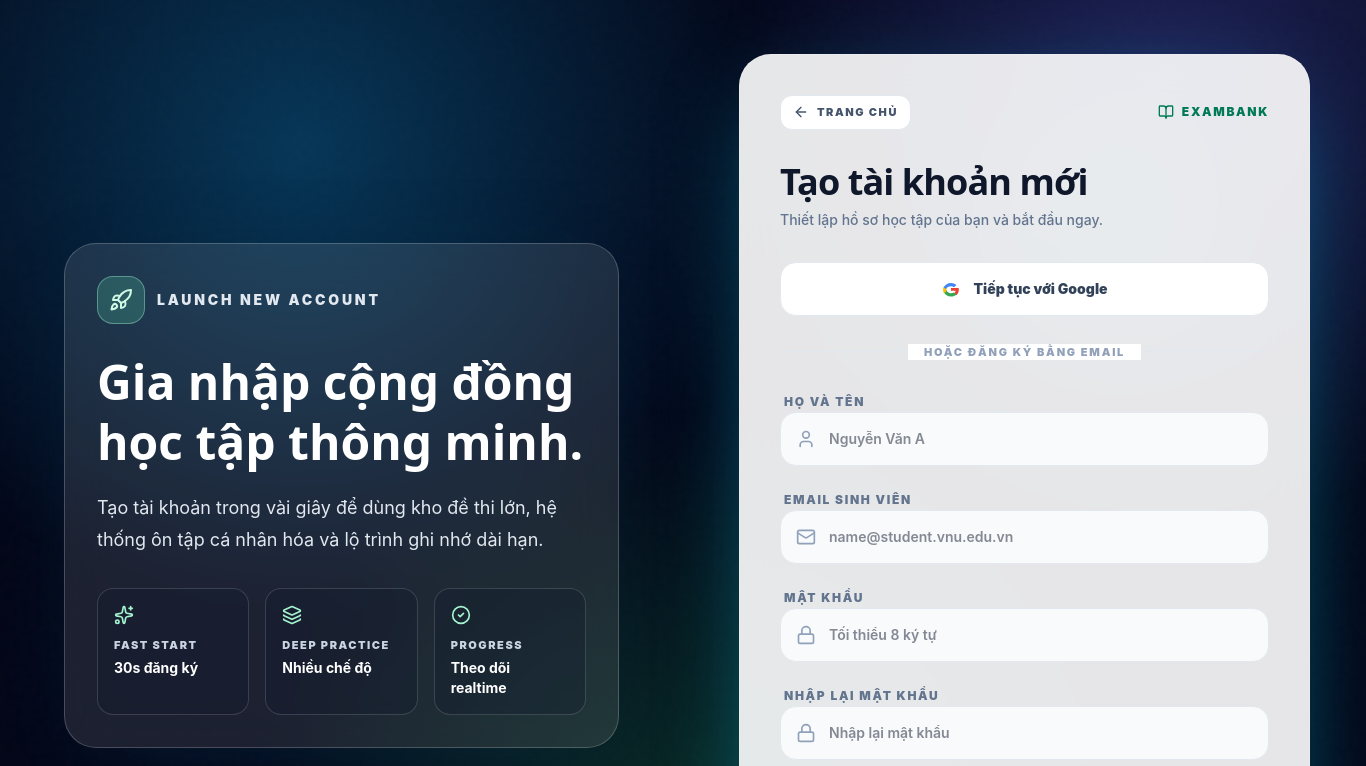
it: Register page › validates password confirmation match
Type "Nguyen Van A" into the field labelled "Họ và tên". click: (1024, 439)
box: [780,412,1269,466]
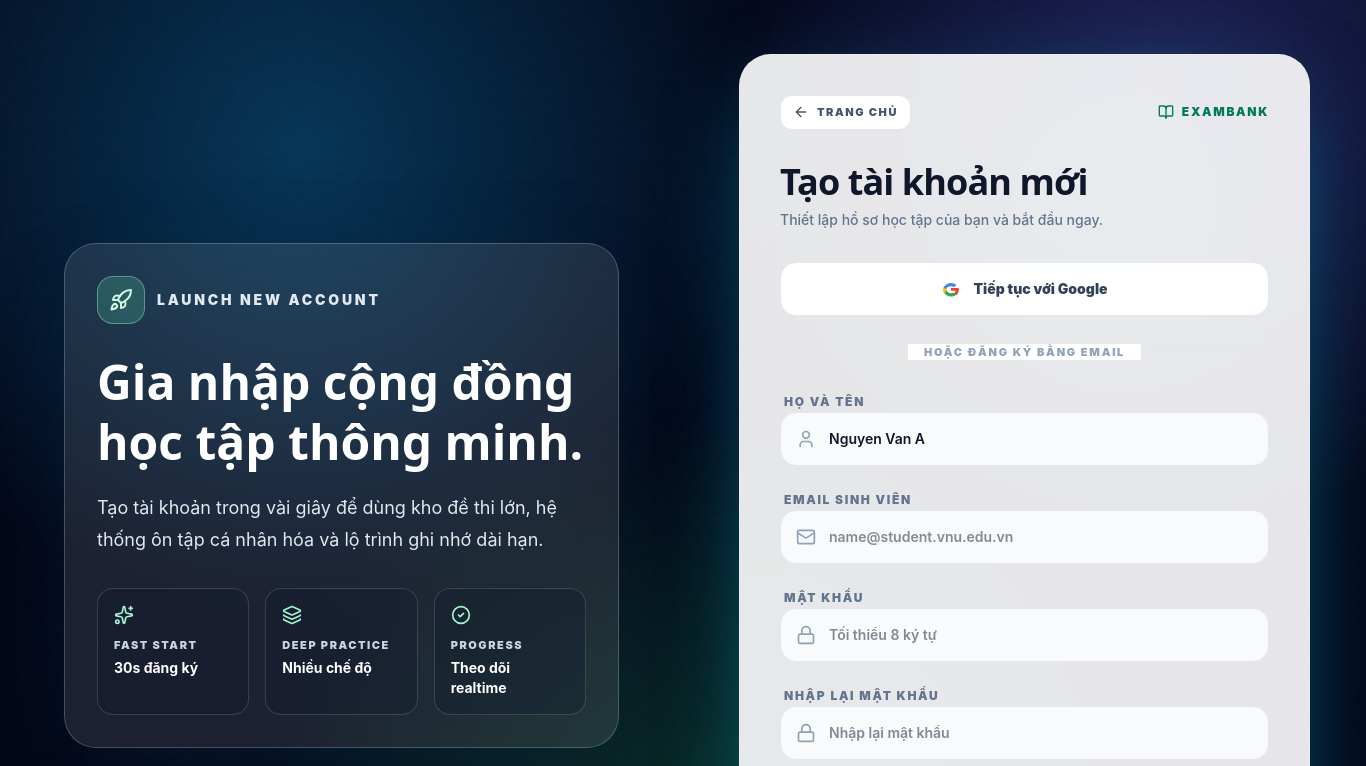
Type "a@student.edu.vn" into the field labelled "Email sinh viên". click: (1024, 537)
box: [780,510,1269,564]
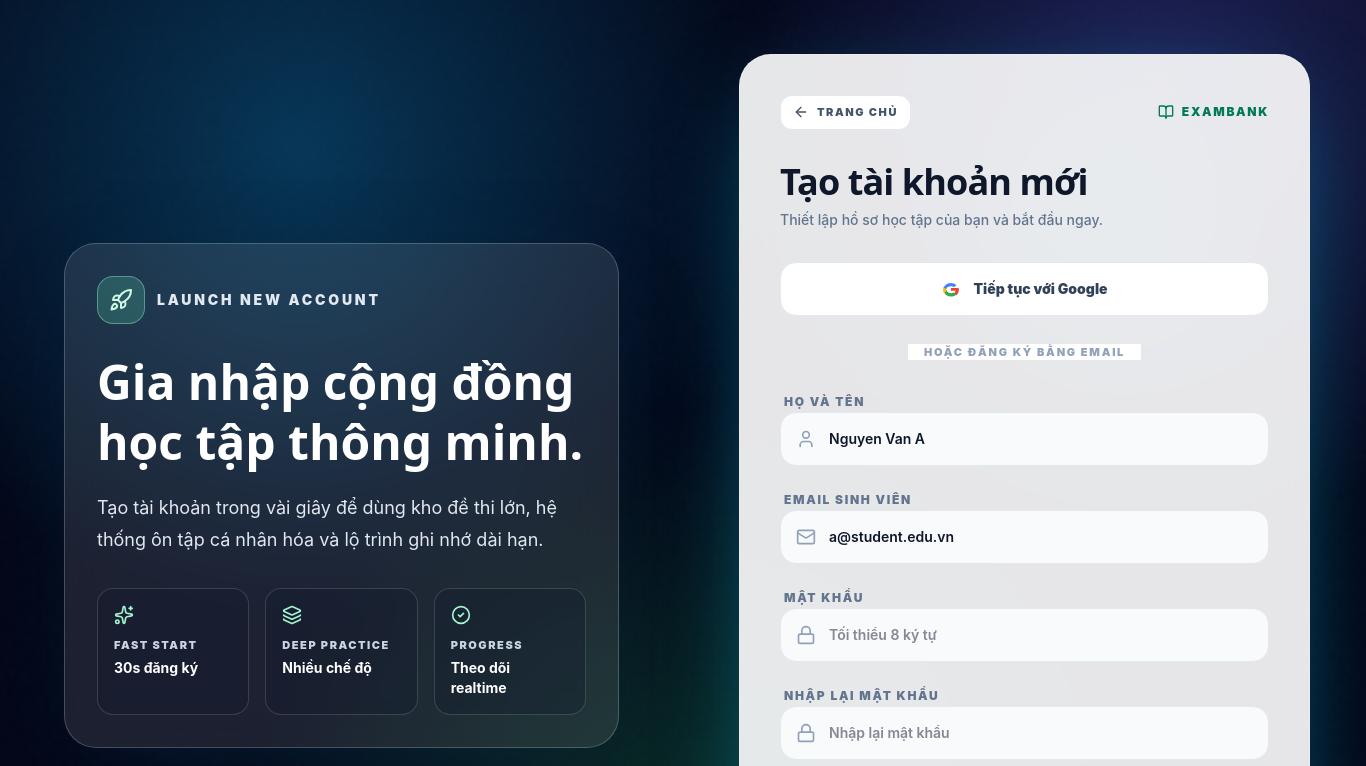
Type "Password123" into the password field labelled "Mật khẩu". click: (1024, 635)
box: [780,608,1269,662]
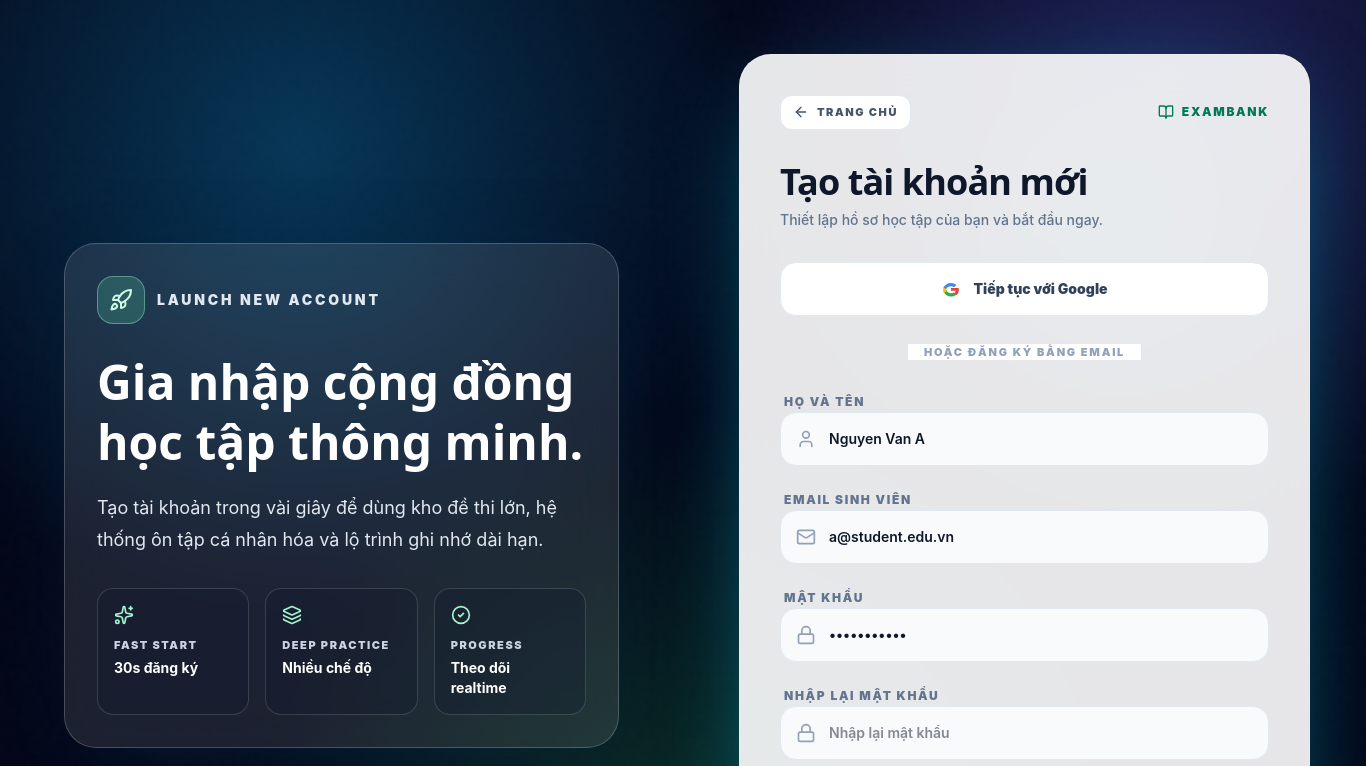
Type "DifferentPass" into the password field labelled "Nhập lại mật khẩu". click: (1024, 733)
box: [780,706,1269,760]
(page scrolled)
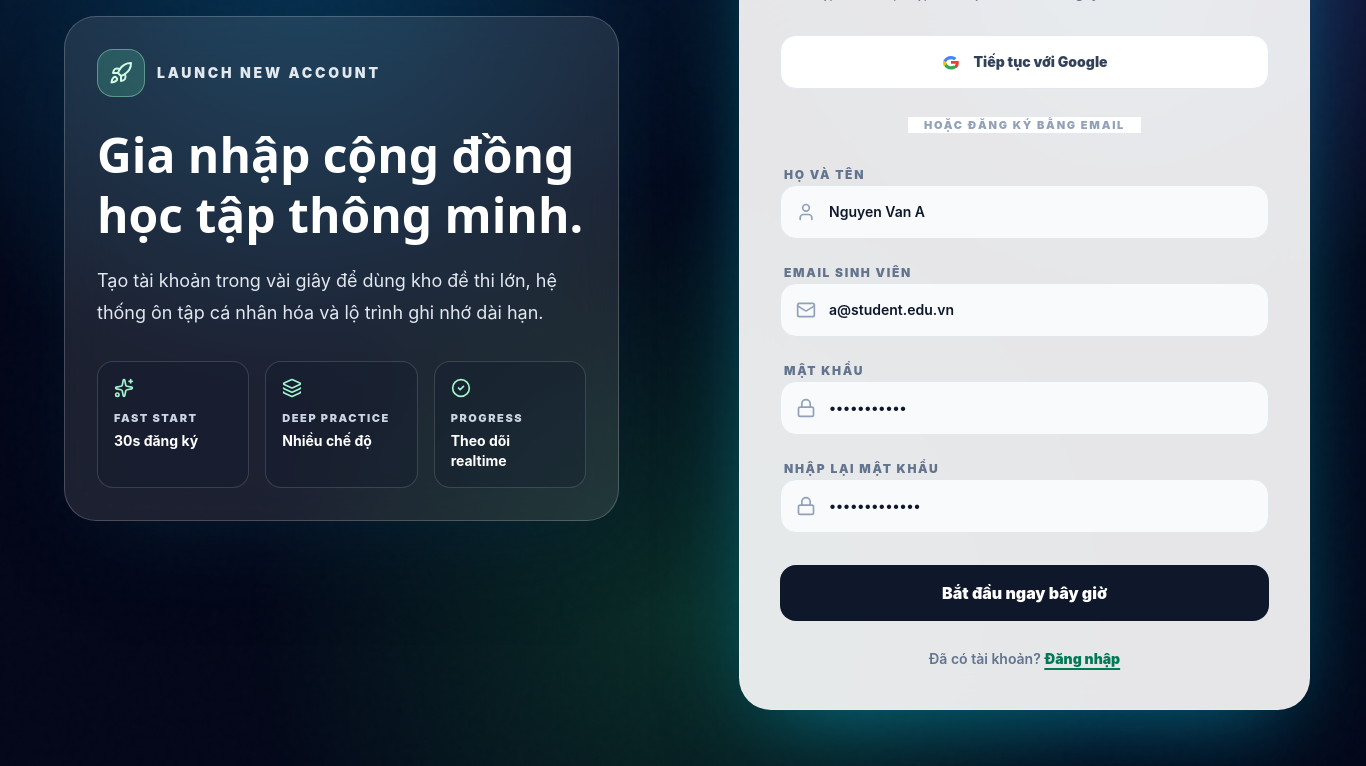
Click the button "Bắt đầu ngay bây giờ". click: (1024, 593)
box: [780,565,1269,621]
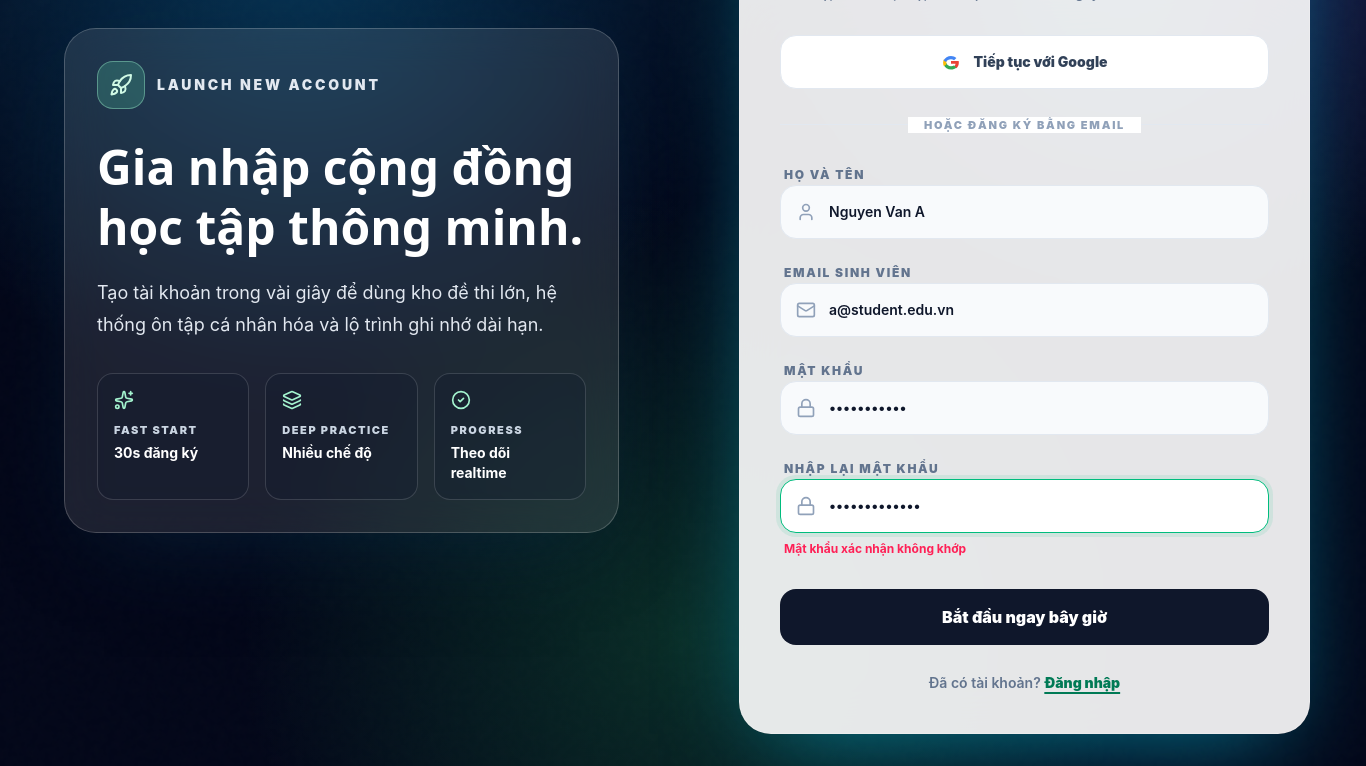
Now the text "Mật khẩu xác nhận không khớp" is shown, box [784,541,966,556]
